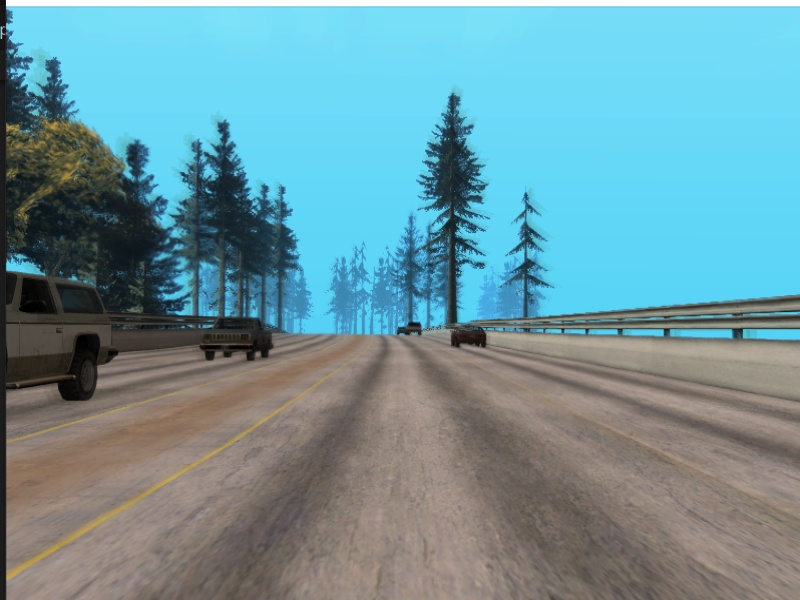vehicle: (5, 269, 121, 404), (201, 315, 275, 364), (445, 323, 491, 351), (402, 321, 426, 337)
